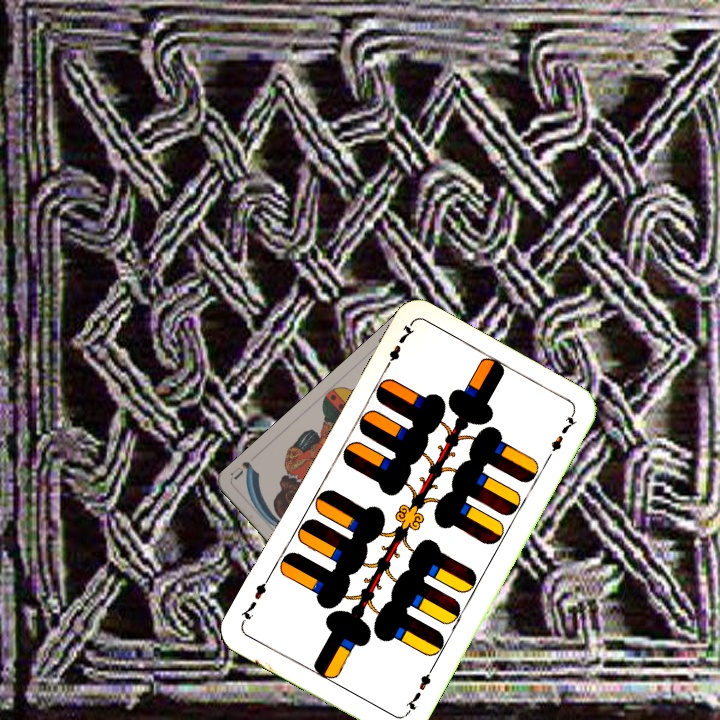E7: (379, 320, 417, 374), (401, 664, 436, 718)
